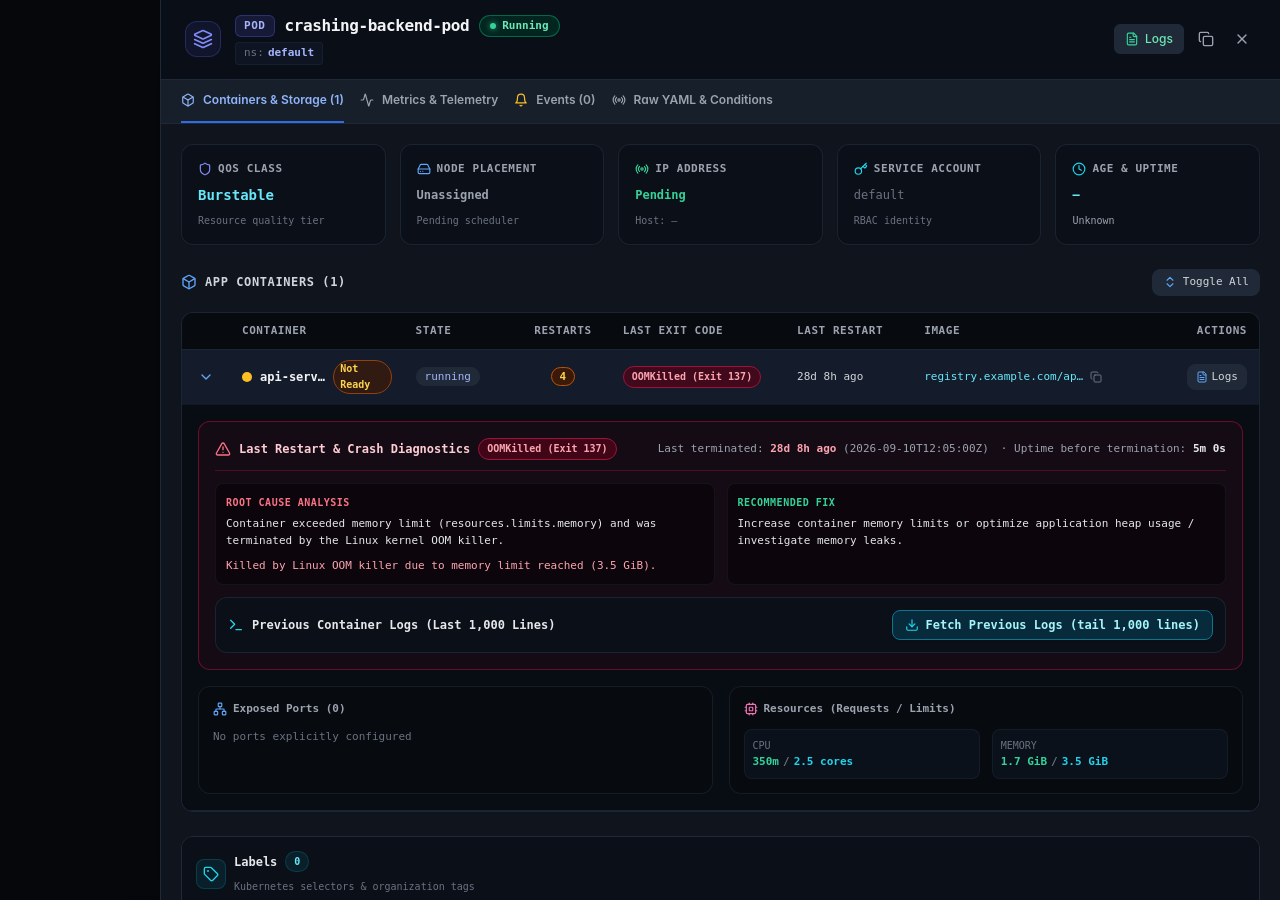
Scenario: Comprehensive Modals and Interactive Actions Suite › renders DescribeModal with compact containers table, Last Exit Code badge, and inspects previous 1000 lines logs
The width and height of the screenshot is (1280, 900).
Expected: the heading "crashing-backend-pod" is shown, x1=284 y1=14 x2=469 y2=38
Expected: the text "App Containers (1)" is shown, x1=205 y1=274 x2=346 y2=290
Click the button "Fetch Previous Logs (tail 1,000 lines)".
click(1053, 625)  # box x1=892 y1=610 x2=1213 y2=640
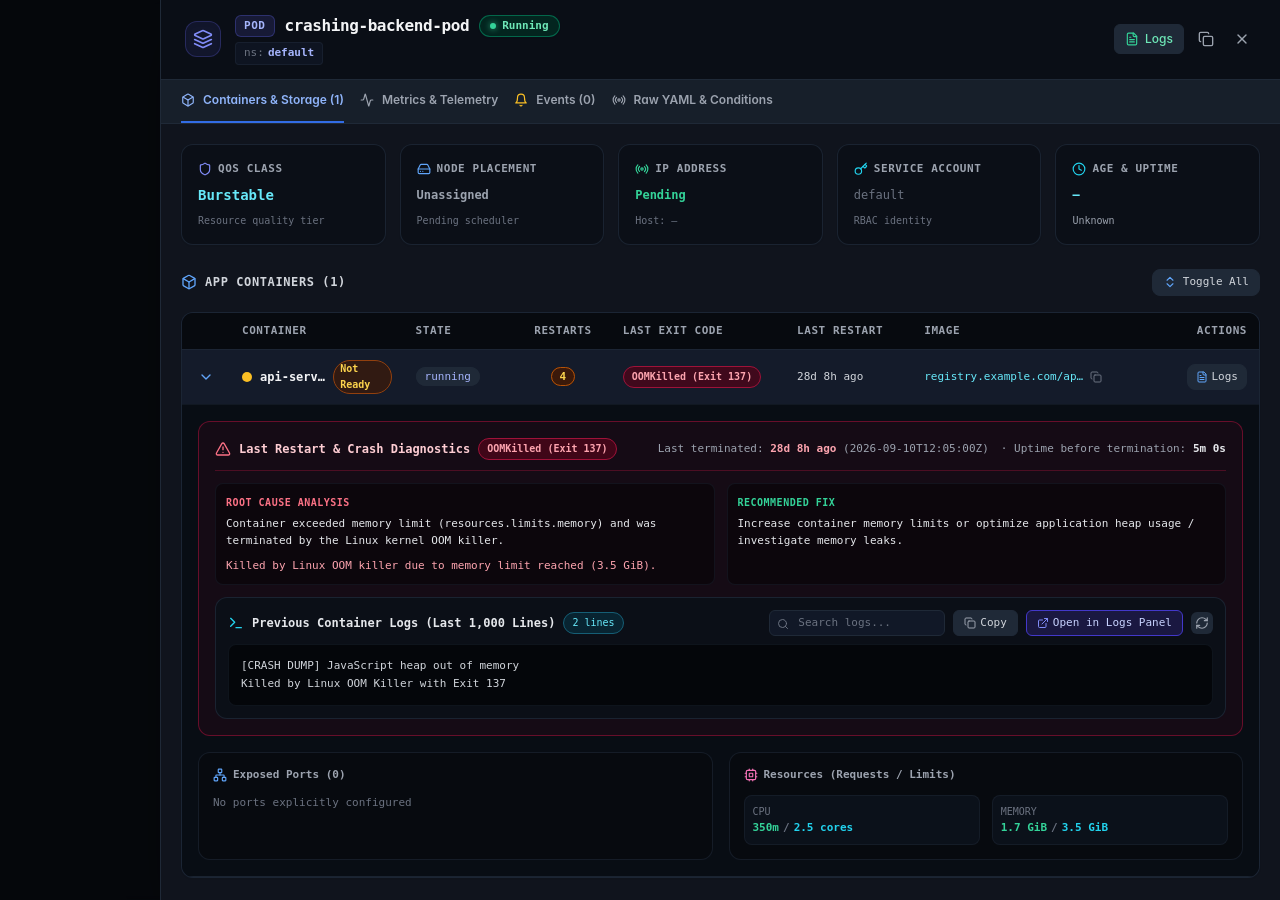
Result: the text "Killed by Linux OOM Killer with Exit 137" is shown at x1=241 y1=659 x2=519 y2=690
